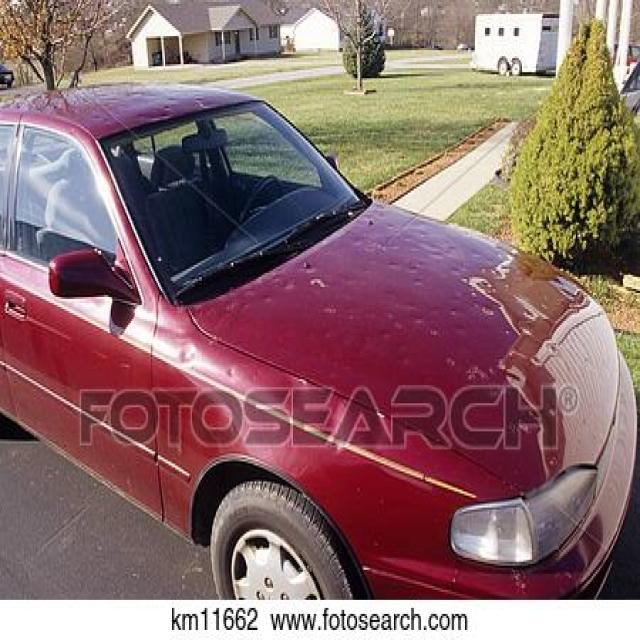dent: (175, 199, 530, 445), (127, 86, 181, 123), (90, 92, 130, 125), (192, 93, 221, 112)
